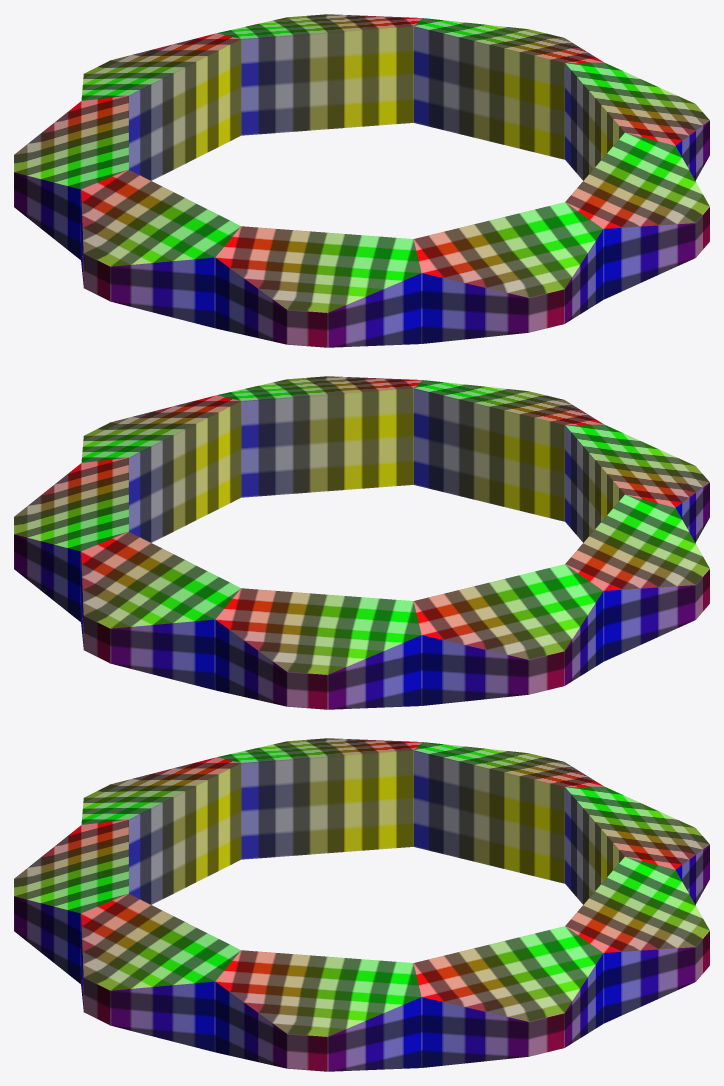
File: dark_gear.obj
3 views of the same model, one above another, from view 1: azimuth 30°, elevation 25°; view 2: azimuth 150°, elevation 25°; view 3: azimuth 270°, elevation 25° (orthographic).
Parts seen in each view (by area): view 1: Dark_Gear_Circle; view 2: Dark_Gear_Circle; view 3: Dark_Gear_Circle.
Boxes of the visible parts, box(x1,y1,x2,y2) form: Dark_Gear_Circle: box(14, 14, 709, 347); Dark_Gear_Circle: box(14, 376, 709, 709); Dark_Gear_Circle: box(14, 738, 709, 1071).
Bounding box in the file's own units: 1.33 × 0.2007 × 1.31.
